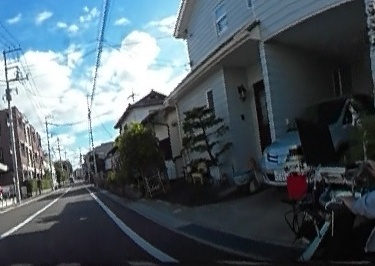person: (333, 41, 375, 255)
